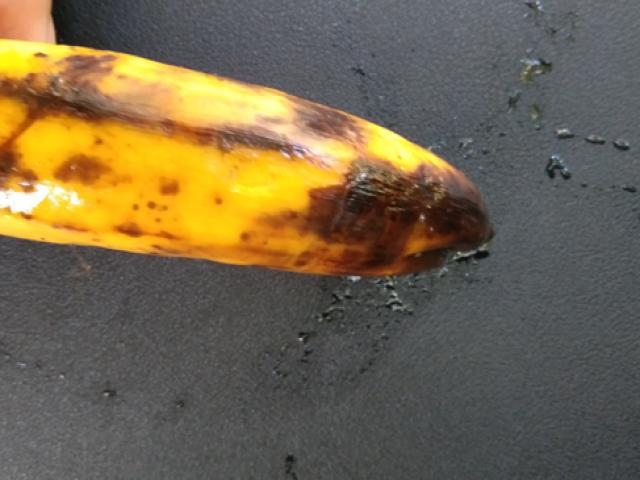rotten: (0, 23, 498, 294)
